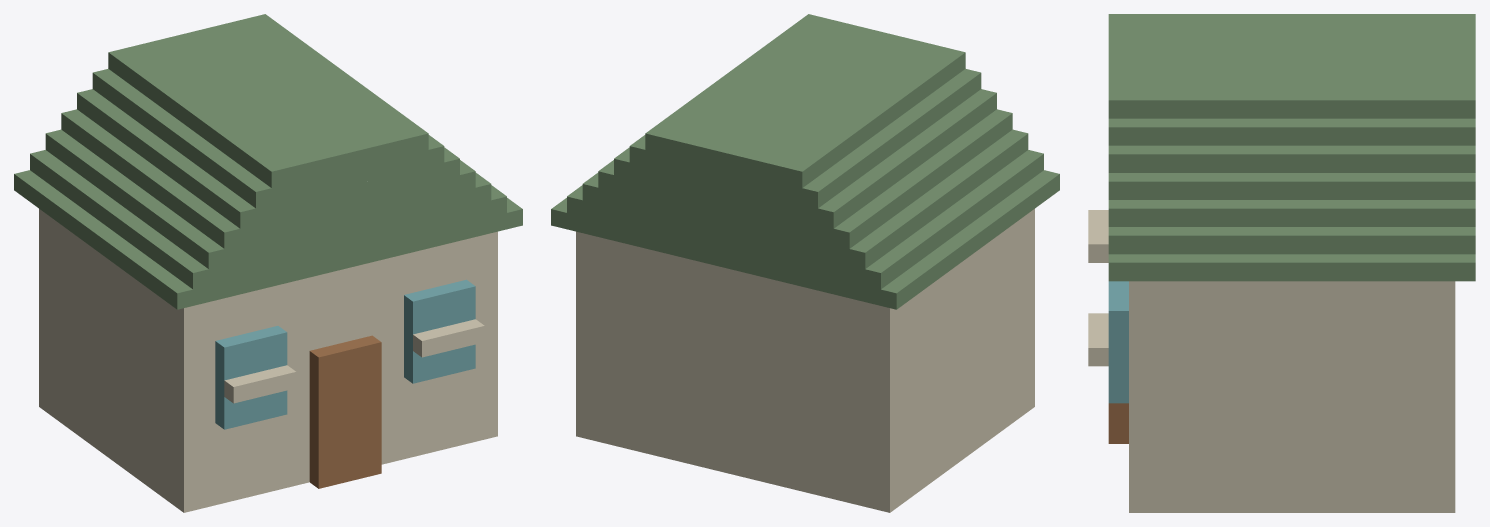
File: climate-15.glb
The picture shows the model from 3 angles, left to right: view 1: azimuth 30°, elevation 25°; view 2: azimuth 150°, elevation 25°; view 3: azimuth 270°, elevation 25°; orthographic projection. The views are drawn at different scales.
Parts seen in each view (by area): view 1: Eco shelter; view 2: Eco shelter; view 3: Eco shelter.
Boxes of the visible parts, bbox=[...] form: Eco shelter: bbox=[14, 14, 522, 512]; Eco shelter: bbox=[551, 14, 1059, 512]; Eco shelter: bbox=[1088, 14, 1475, 512].
Bounding box in the file's own units: 1.76 × 1.6 × 1.52.
